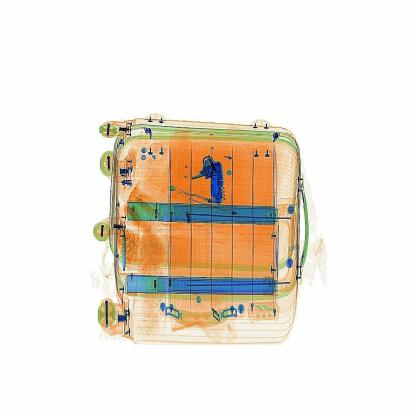scissors: (209, 156, 231, 212)
